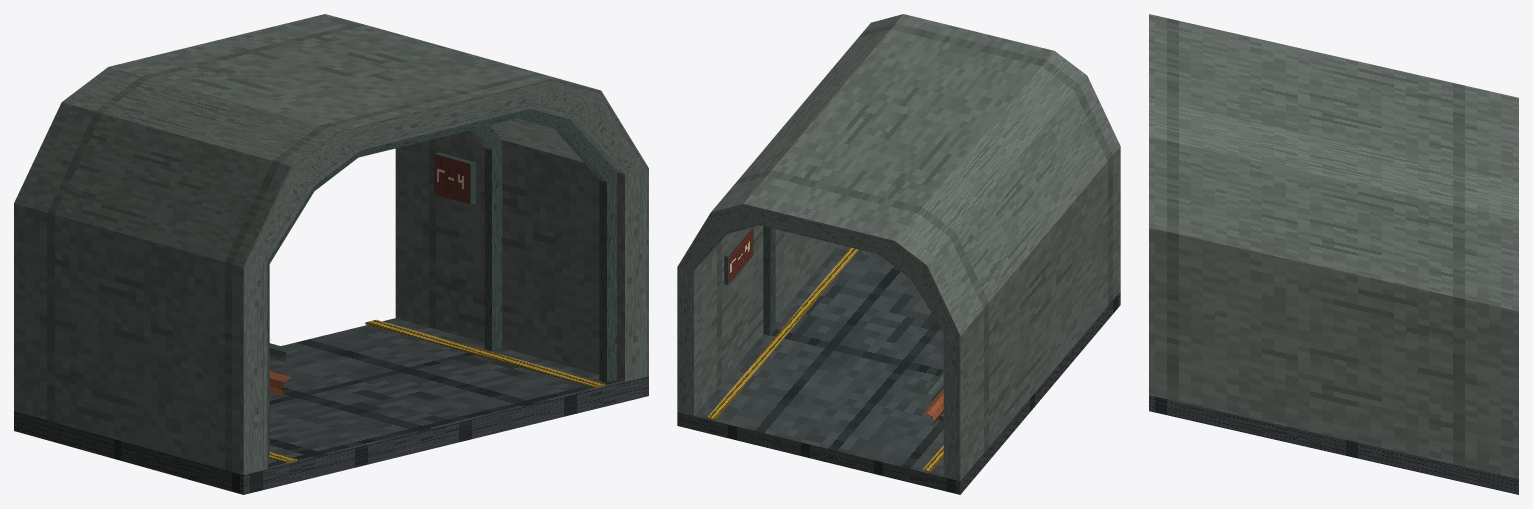
Rendered from gallery.gltf.
The picture shows the model from 3 angles, left to right: view 1: azimuth 30°, elevation 25°; view 2: azimuth 150°, elevation 25°; view 3: azimuth 270°, elevation 25°; orthographic projection. The views are drawn at different scales.
Visible parts, largest first — view 1: ServiceGallery; view 2: ServiceGallery; view 3: ServiceGallery.
Boxes of the visible parts, x1=… form: ServiceGallery: x1=14, y1=14, x2=648, y2=494; ServiceGallery: x1=677, y1=14, x2=1120, y2=494; ServiceGallery: x1=1149, y1=14, x2=1518, y2=494.
Size of the model in its own units: 4.08 by 4.28 by 4.
Materials: 1 (1 with a texture image).
